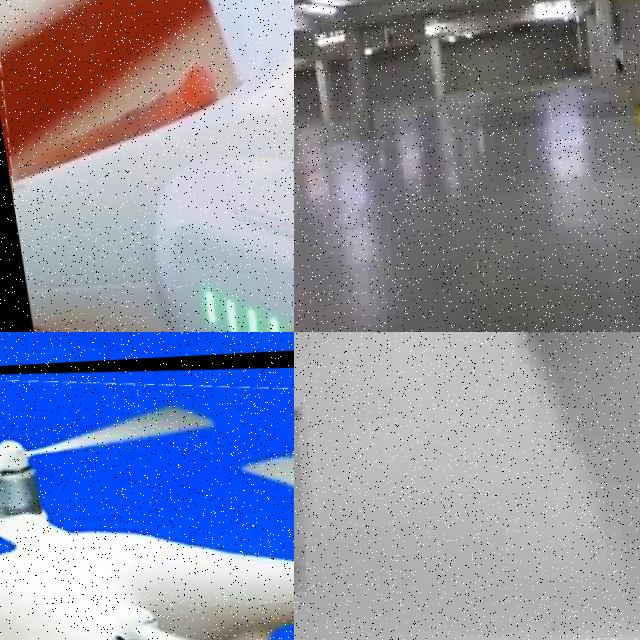drone: (0, 0, 294, 332), (0, 347, 294, 640)
